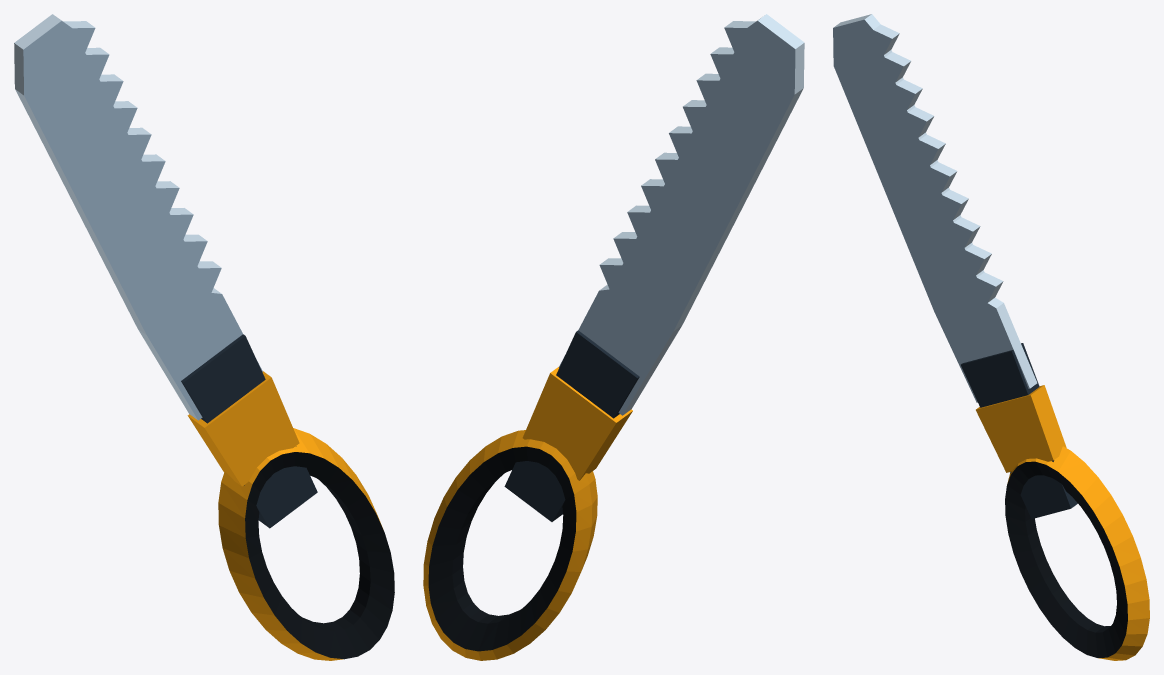
File: PinkingShears_Normal_HalfA.obj
3 renders of one model, left to right at view 1: azimuth 30°, elevation 25°; view 2: azimuth 150°, elevation 25°; view 3: azimuth 330°, elevation 25°, orthographic. The views are drawn at different scales.
Visible parts, largest first — view 1: Steel, WarmGrip, Rubber, DarkSteel, BladeHighlight; view 2: Steel, WarmGrip, Rubber, DarkSteel, BladeHighlight; view 3: Steel, WarmGrip, Rubber, DarkSteel, BladeHighlight.
Part boxes in pixels (bbox=[...]): Steel: bbox=[23, 21, 262, 420]; WarmGrip: bbox=[187, 371, 382, 660]; Rubber: bbox=[245, 452, 394, 659]; DarkSteel: bbox=[181, 334, 317, 528]; BladeHighlight: bbox=[14, 14, 221, 419]; Steel: bbox=[559, 21, 795, 415]; WarmGrip: bbox=[423, 367, 632, 660]; Rubber: bbox=[428, 446, 576, 651]; DarkSteel: bbox=[504, 330, 639, 521]; BladeHighlight: bbox=[599, 14, 804, 414]; Steel: bbox=[833, 19, 1029, 402]; WarmGrip: bbox=[976, 385, 1149, 660]; Rubber: bbox=[1005, 461, 1127, 657]; DarkSteel: bbox=[961, 343, 1077, 518]; BladeHighlight: bbox=[834, 14, 1037, 388].
Size of the model in its own units: 0.1409 by 0.2566 by 0.014.
